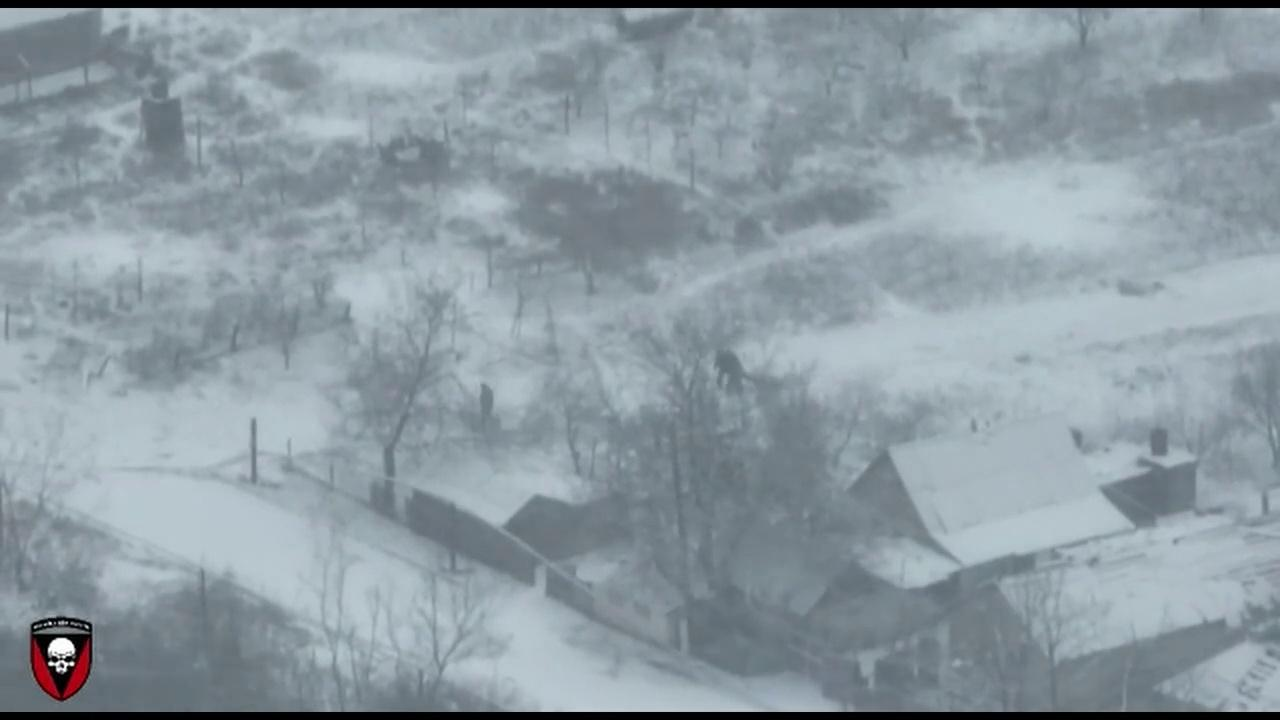person: (710, 352, 749, 398), (479, 382, 493, 424)
